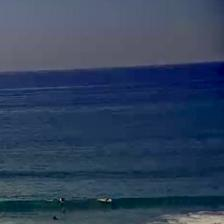surfer: (104, 198, 112, 203), (52, 216, 59, 221), (59, 197, 65, 202)
